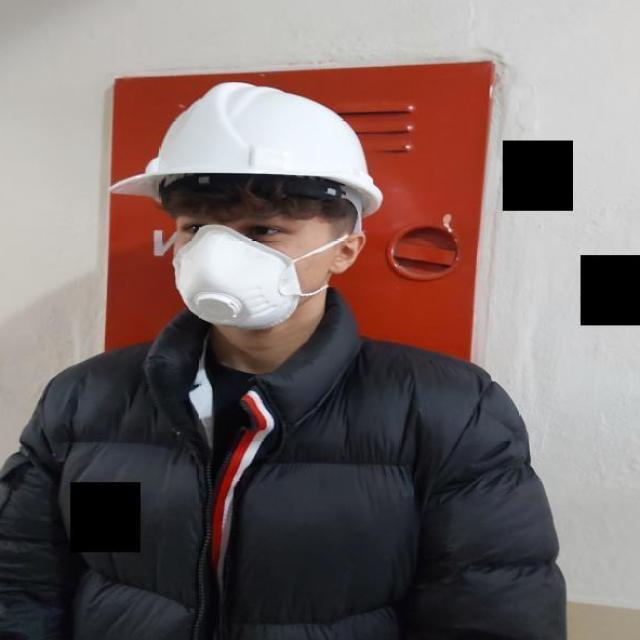helmet: (108, 80, 385, 218)
